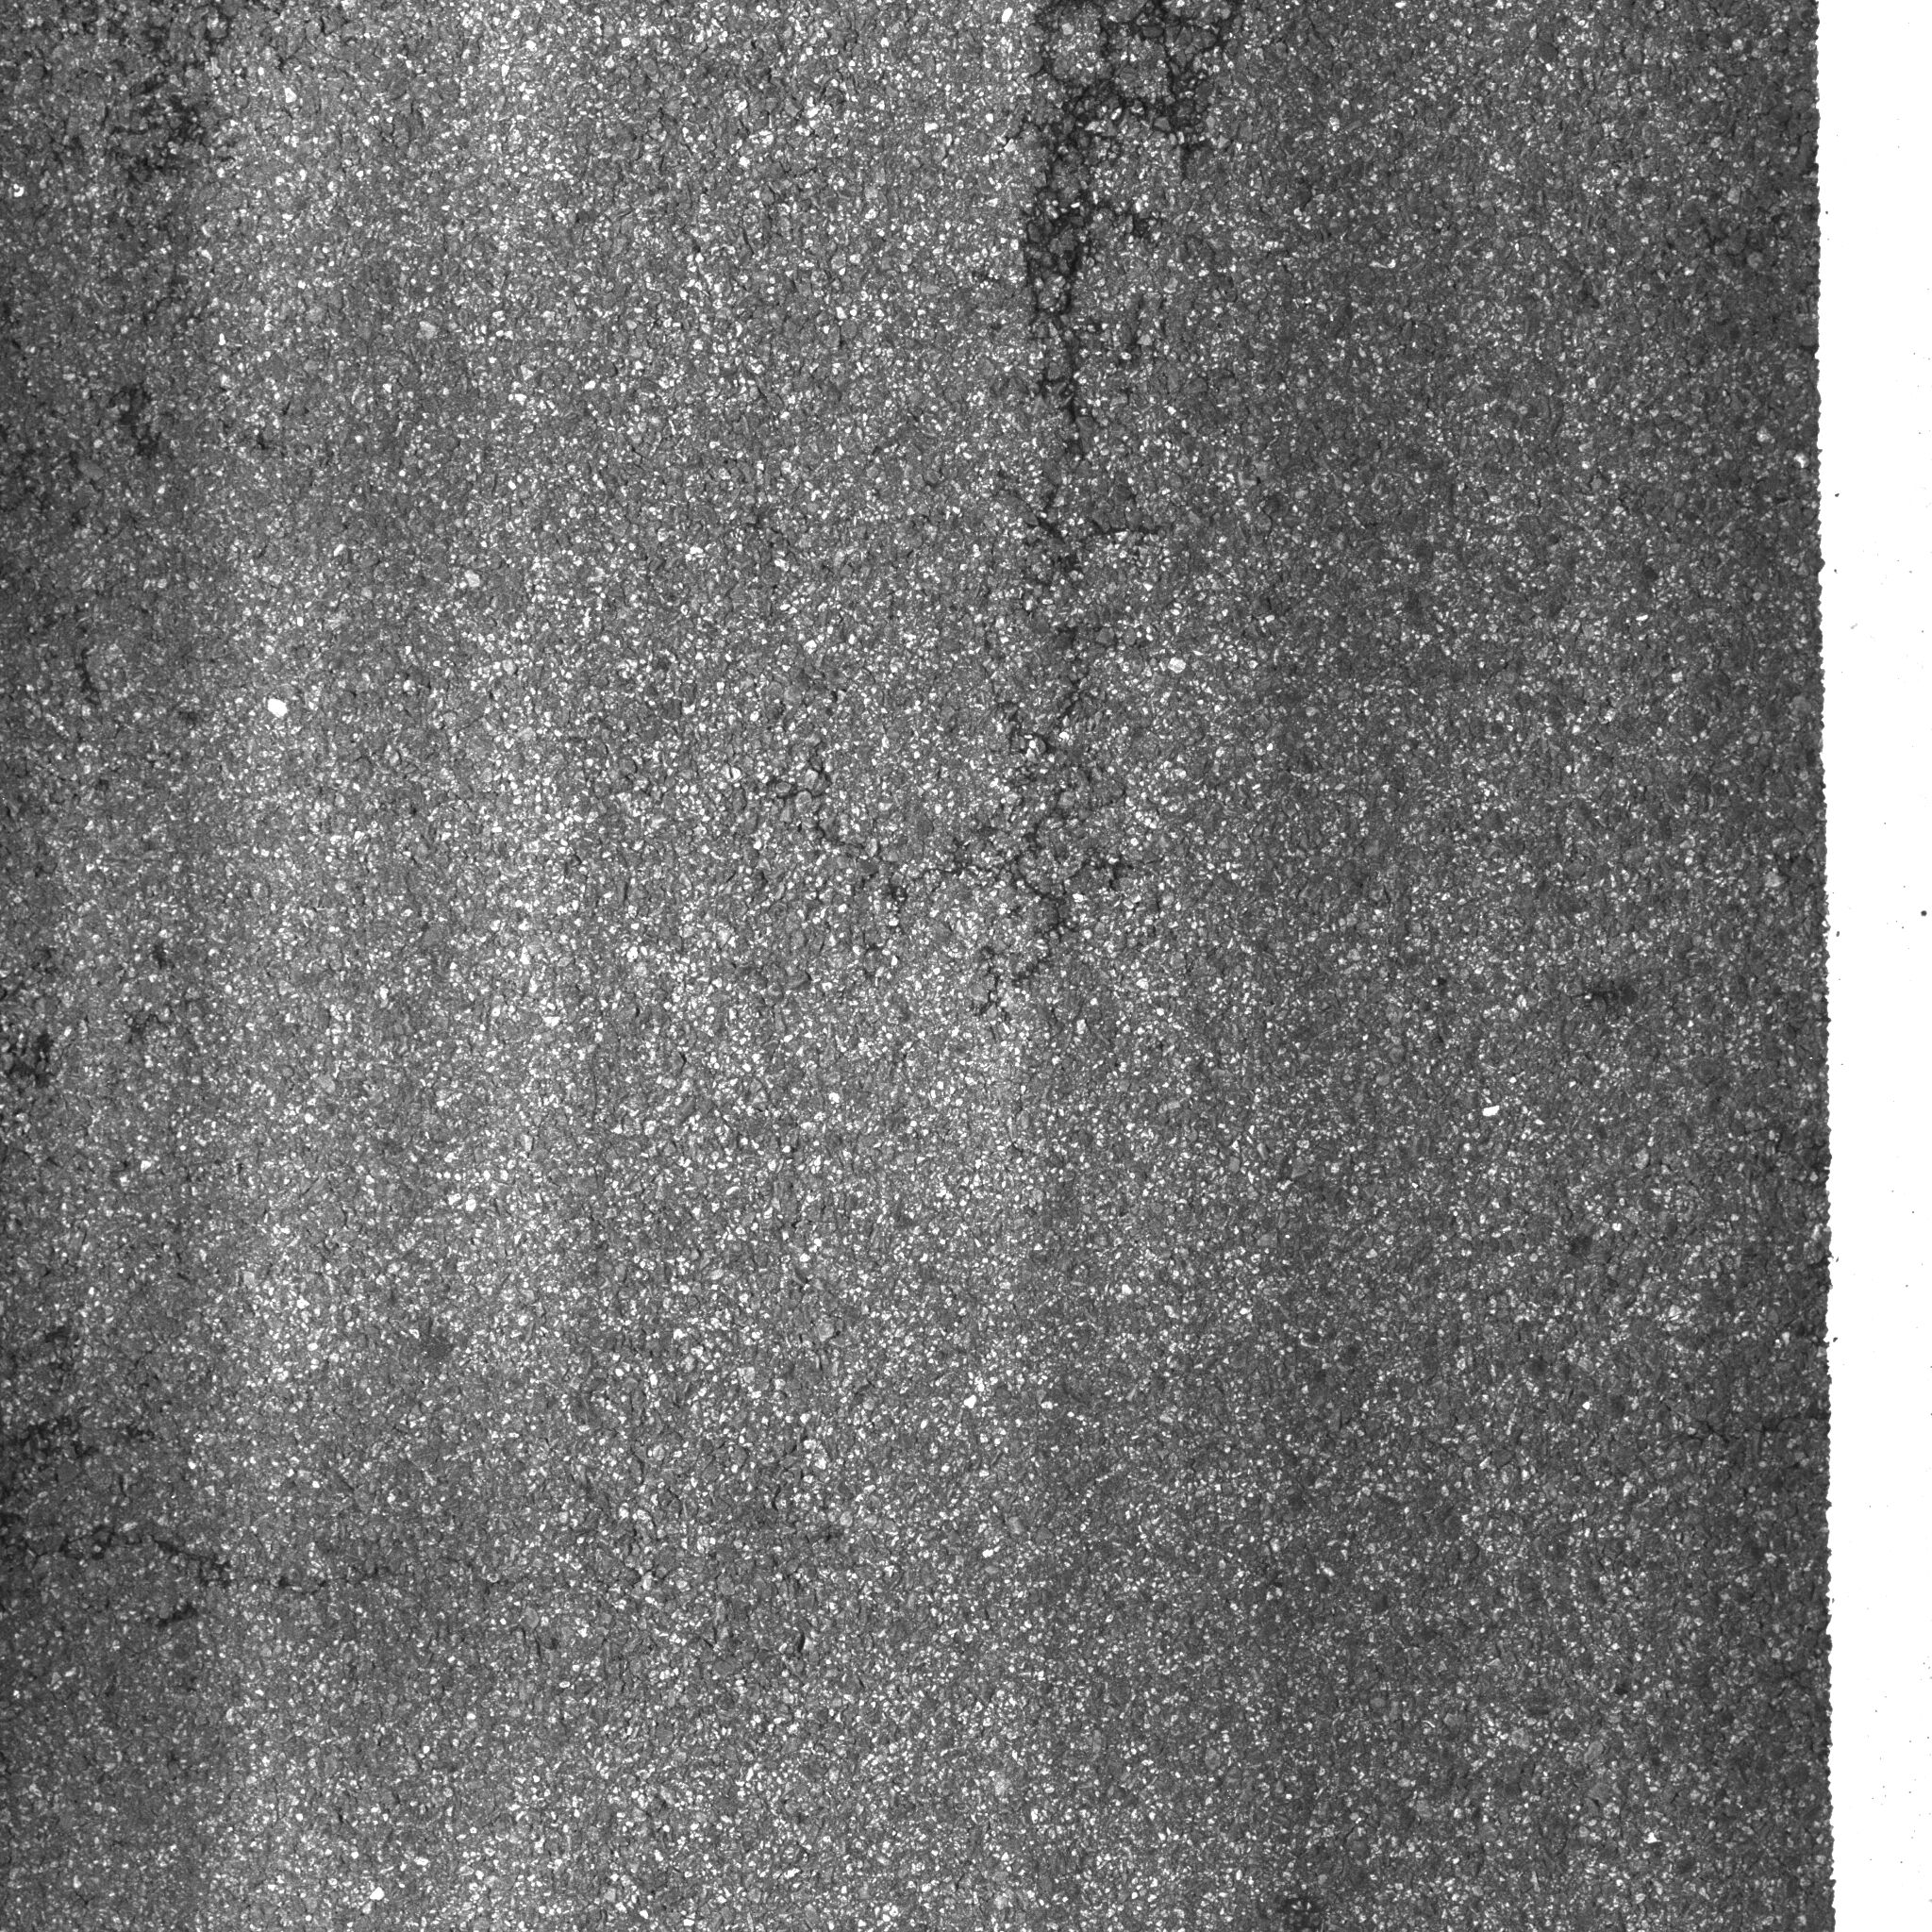transeverse: (980, 4, 1182, 985), (30, 1456, 292, 1637)
